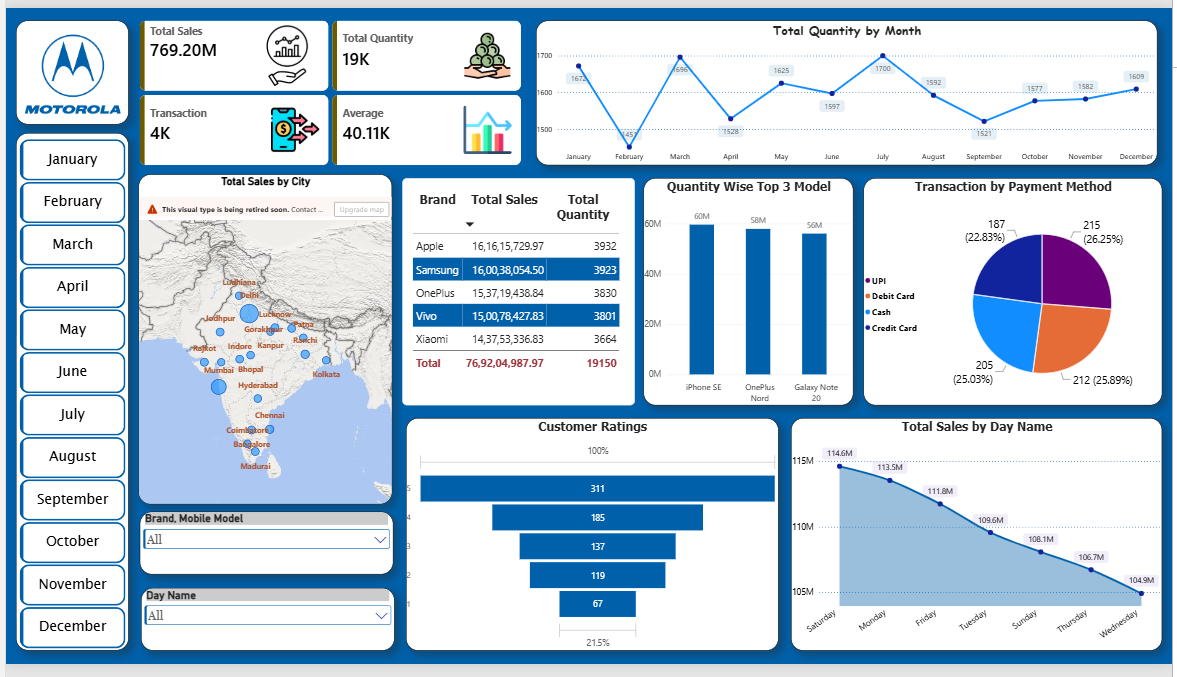

What the dashboard file says about the page in this screenshot:
{"tool":"powerbi","page":{"name":"Page 1","canvas":[1920,1080],"ordinal":0},"visuals":[{"type":"shape","box":[16.5,20.6,185.2,170.8],"z":0},{"type":"image","box":[22.6,26.8,175,164.7],"z":1000},{"type":"shape","box":[16.5,205.8,185.2,852.1],"z":2000},{"type":"advancedSlicerVisual","fields":{"Values":["Sales_Data.Date.Variation.Date Hierarchy.Month"]},"box":[22.6,216.1,175,841.9],"z":3000},{"type":"cardVisual","fields":{"Data":["Sales_Data.Total Sales","Sales_Data.Total Quantity","Sales_Data.Transaction","Sales_Data.Average"]},"box":[220.2,20.6,629.8,238.8],"z":4000},{"type":"map","fields":{"Category":["Sales_Data.City"],"Size":["Sales_Data.Total Sales"]},"box":[218.2,273.8,417.8,543.4],"z":5000},{"type":"lineChart","fields":{"Category":["Sales_Data.Date.Variation.Date Hierarchy.Month","Sales_Data.Date.Variation.Date Hierarchy.Day"],"Y":["Sales_Data.Total Quantity"]},"box":[872.7,20.6,1023,238.8],"z":6000},{"type":"clusteredColumnChart","title":"Quantity Wise Top 3 Model","fields":{"Category":["Sales_Data.Mobile Model"],"Y":["Sales_Data.Total Sales"]},"box":[1049.7,279.9,345.8,374.6],"z":7000},{"type":"pieChart","fields":{"Category":["Sales_Data.Payment Method"],"Y":["Sales_Data.Transaction"]},"box":[1412,279.9,491.9,374.6],"z":8000},{"type":"funnel","title":"Customer Ratings","fields":{"Category":["Sales_Data.Customer Ratings"],"Y":["CountNonNull(Sales_Data.Customer Ratings)"]},"box":[658.7,675.1,613.4,382.8],"z":9000},{"type":"areaChart","fields":{"Category":["Sales_Data.Day Name"],"Y":["Sales_Data.Total Sales"]},"box":[1292.6,675.1,611.3,382.8],"z":10000},{"type":"tableEx","fields":{"Values":["Sales_Data.Brand","Sales_Data.Total Sales","Sales_Data.Total Quantity"]},"box":[652.5,279.9,382.8,374.6],"z":11000},{"type":"slicer","fields":{"Values":["Sales_Data.Brand","Sales_Data.Mobile Model"]},"box":[220.2,829.5,417.8,102.9],"z":12000},{"type":"slicer","fields":{"Values":["Sales_Data.Day Name"]},"box":[222.3,955.1,417.8,102.9],"z":13000}]}

Visuals, with their boxes in screenshot pixels (x1, y1, x2, y2), scaled from the page's 1920x1080 canvas onto the 1177x677 screenshot:
shape: (left=10, top=13, right=124, bottom=120)
image: (left=14, top=17, right=121, bottom=120)
shape: (left=10, top=129, right=124, bottom=663)
advancedSlicerVisual - Sales_Data.Date.Variation.Date Hierarchy.Month: (left=14, top=135, right=121, bottom=663)
cardVisual - Sales_Data.Total Sales x Sales_Data.Total Quantity: (left=135, top=13, right=521, bottom=163)
map - Sales_Data.City x Sales_Data.Total Sales: (left=134, top=172, right=390, bottom=512)
lineChart - Sales_Data.Date.Variation.Date Hierarchy.Month x Sales_Data.Date.Variation.Date Hierarchy.Day: (left=535, top=13, right=1162, bottom=163)
"Quantity Wise Top 3 Model" clusteredColumnChart: (left=643, top=175, right=855, bottom=410)
pieChart - Sales_Data.Payment Method x Sales_Data.Transaction: (left=866, top=175, right=1167, bottom=410)
"Customer Ratings" funnel: (left=404, top=423, right=780, bottom=663)
areaChart - Sales_Data.Day Name x Sales_Data.Total Sales: (left=792, top=423, right=1167, bottom=663)
tableEx - Sales_Data.Brand x Sales_Data.Total Sales: (left=400, top=175, right=635, bottom=410)
slicer - Sales_Data.Brand x Sales_Data.Mobile Model: (left=135, top=520, right=391, bottom=584)
slicer - Sales_Data.Day Name: (left=136, top=599, right=392, bottom=663)
